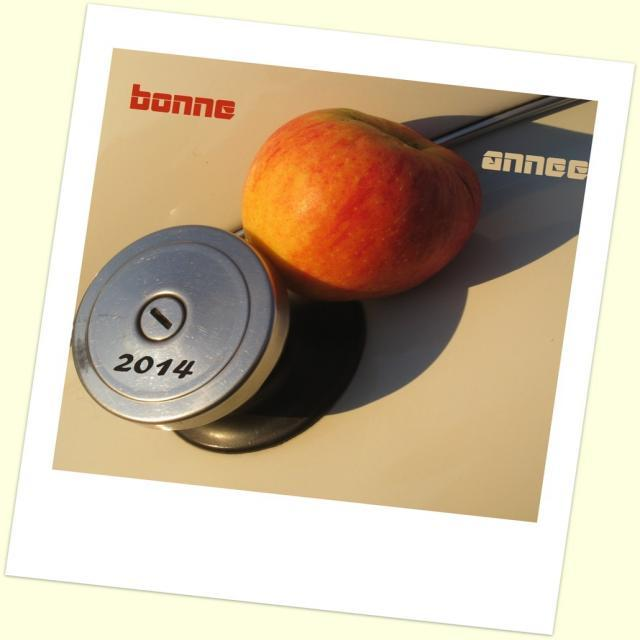Apple pie: (238, 103, 476, 297)
